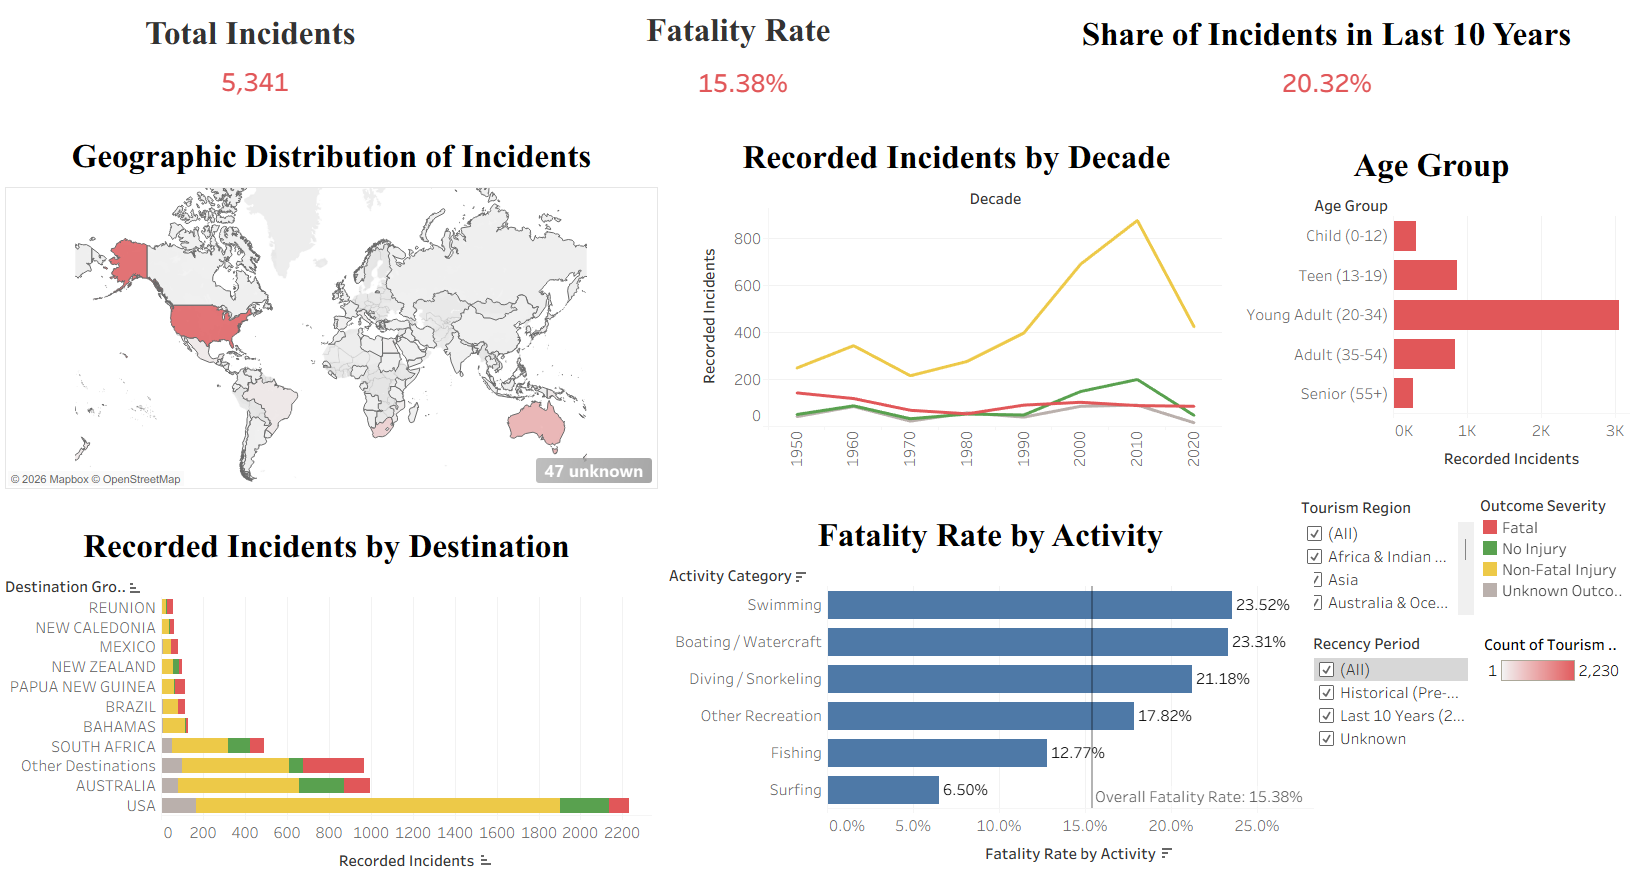

The page's visual inventory and layout, read from the dashboard file:
{"tool":"tableau","page":{"name":"Dashboard 1","canvas":[1000,1000],"units":"permille","ordinal":0},"visuals":[{"type":"worksheet","title":"FATALITY RATE","mark":"Automatic","box":[301.4,10.2,296,135.1]},{"type":"worksheet","title":"TOTAL INCIDENTS","mark":"Automatic","box":[9.7,13.6,288.7,139.6]},{"type":"worksheet","title":"% IN LAST 10 YEARS","mark":"Automatic","box":[614.4,14.8,377.1,122.6]},{"type":"worksheet","title":"TOURISM REGION OVERVIEW","mark":"Automatic","box":[3,152.8,395.3,401.9]},{"type":"worksheet","title":"IS RISK RISING OR FALLING BY DECADE","mark":"Line","rows":["Year"],"cols":["Decade"],"box":[418.2,153.9,321.7,397.2]},{"type":"worksheet","title":"AGE GROUP","mark":"Automatic","rows":["Age Group"],"cols":["Year"],"box":[746.6,163.3,240.4,377.2]},{"type":"legend","title":"IS RISK RISING OR FALLING BY DECADE","param":"[federated.1o8hsey0grz76o122lspw10yk2e6].[none:Outcome Severity:nk]","box":[895.9,561.9,96.2,138.5]},{"type":"filter","title":"DESTINATION BENCHMARK","param":"[federated.1o8hsey0grz76o122lspw10yk2e6].[none:Tourism Region:nk]","box":[787.5,564.1,104.7,133.9]},{"type":"worksheet","title":"ACTIVITY FATALITY RATE","mark":"Bar","rows":["Activity Category"],"cols":["Calculation_2451401003102209"],"box":[403.8,583.4,391.7,405.2]},{"type":"worksheet","title":"DESTINATION BENCHMARK","mark":"Automatic","rows":["Destination Group"],"cols":["Year"],"box":[0.6,595.8,394.1,400.7]},{"type":"filter","title":"DESTINATION BENCHMARK","param":"[federated.1o8hsey0grz76o122lspw10yk2e6].[none:Recency Period:nk]","box":[794.8,718.5,93.8,140.8]},{"type":"legend","title":"TOURISM REGION OVERVIEW","param":"[federated.1o8hsey0grz76o122lspw10yk2e6].[cnt:Tourism Region:qk]","box":[898.3,719.6,84.8,103.3]}]}

Visuals, with their boxes on the dashboard's canvas, which has no fixed pixel size, in thousandths of its width and height (x1, y1, x2, y2). These are canvas units, not pixel positions in the 1651x877 screenshot, which may show the page scaled, cropped or inside an application window:
"FATALITY RATE" worksheet: (x1=301, y1=10, x2=597, y2=145)
"TOTAL INCIDENTS" worksheet: (x1=10, y1=14, x2=298, y2=153)
"% IN LAST 10 YEARS" worksheet: (x1=614, y1=15, x2=992, y2=137)
"TOURISM REGION OVERVIEW" worksheet: (x1=3, y1=153, x2=398, y2=555)
"IS RISK RISING OR FALLING BY DECADE" worksheet (Line marks): (x1=418, y1=154, x2=740, y2=551)
"AGE GROUP" worksheet: (x1=747, y1=163, x2=987, y2=540)
"IS RISK RISING OR FALLING BY DECADE" legend: (x1=896, y1=562, x2=992, y2=700)
"DESTINATION BENCHMARK" filter: (x1=788, y1=564, x2=892, y2=698)
"ACTIVITY FATALITY RATE" worksheet (Bar marks): (x1=404, y1=583, x2=796, y2=989)
"DESTINATION BENCHMARK" worksheet: (x1=1, y1=596, x2=395, y2=996)
"DESTINATION BENCHMARK" filter: (x1=795, y1=718, x2=889, y2=859)
"TOURISM REGION OVERVIEW" legend: (x1=898, y1=720, x2=983, y2=823)
